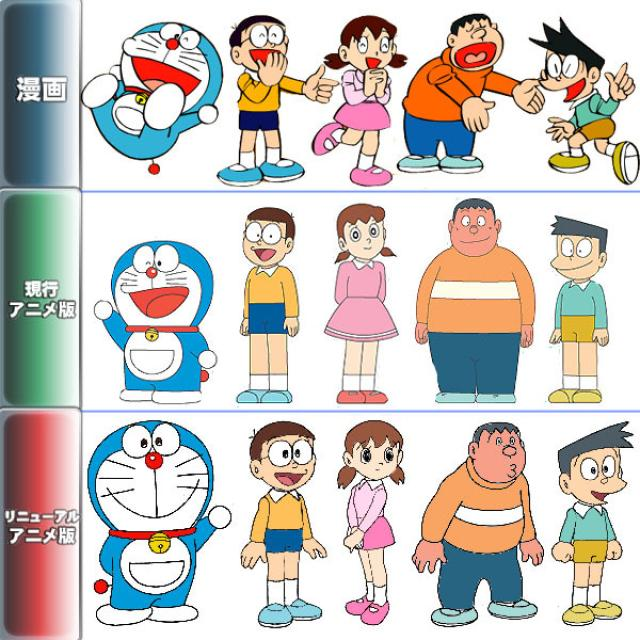doraemon: (81, 415, 219, 552), (110, 14, 227, 123), (104, 232, 212, 344)
jaian: (466, 417, 531, 493), (442, 7, 508, 79), (438, 192, 504, 261)
nobita: (243, 417, 319, 493), (236, 202, 298, 274), (226, 7, 289, 76)
shizuka: (334, 416, 414, 496), (319, 11, 413, 76), (328, 200, 394, 266)
suneo: (549, 417, 636, 508), (527, 14, 604, 110), (543, 209, 610, 286)
